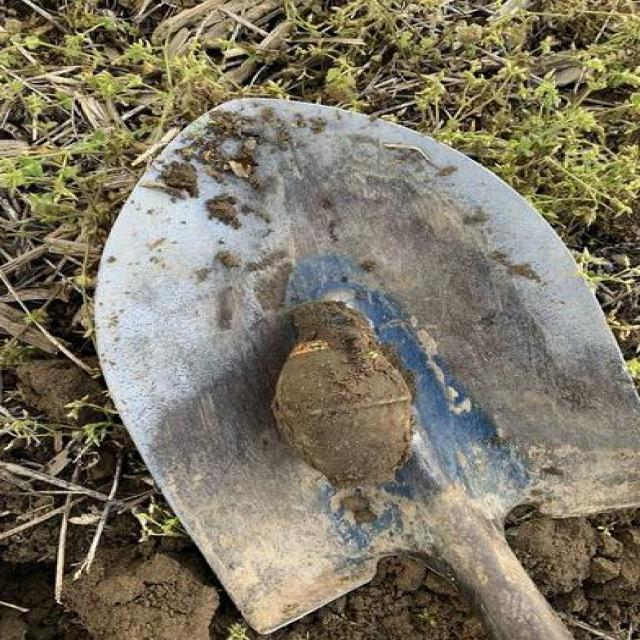grenade: (274, 300, 414, 486)
